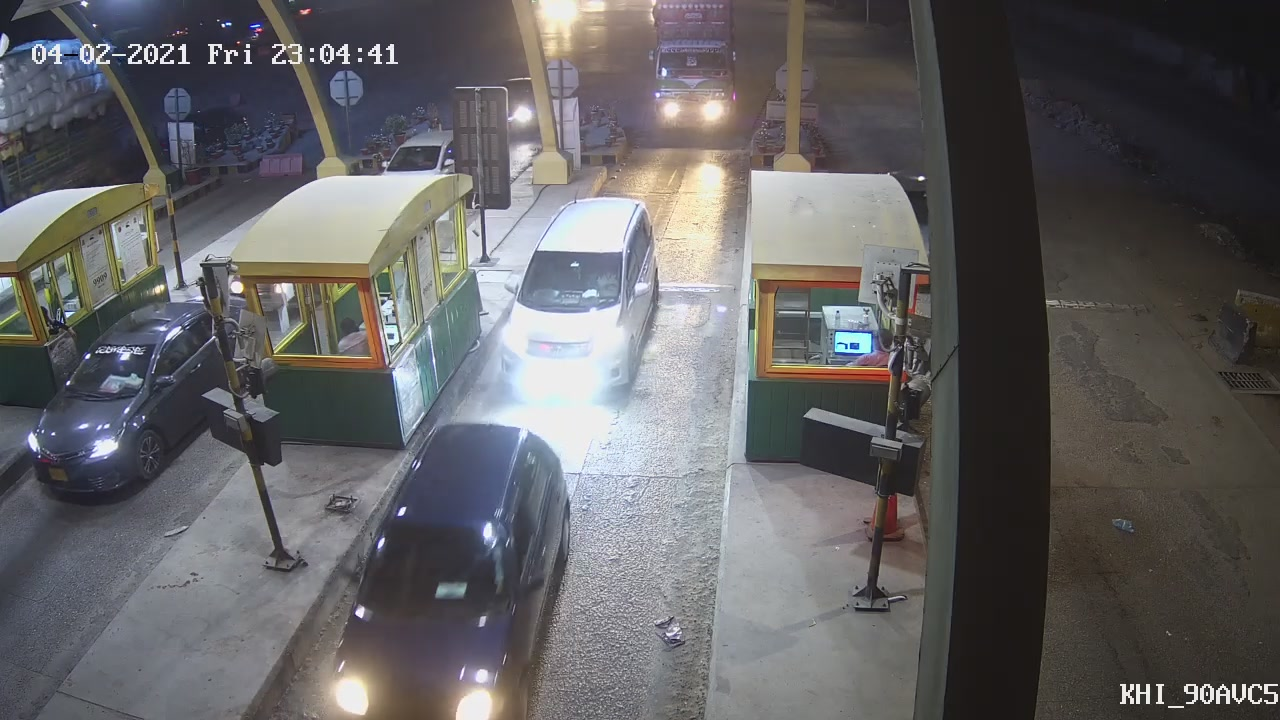F1: (490, 193, 663, 413)
